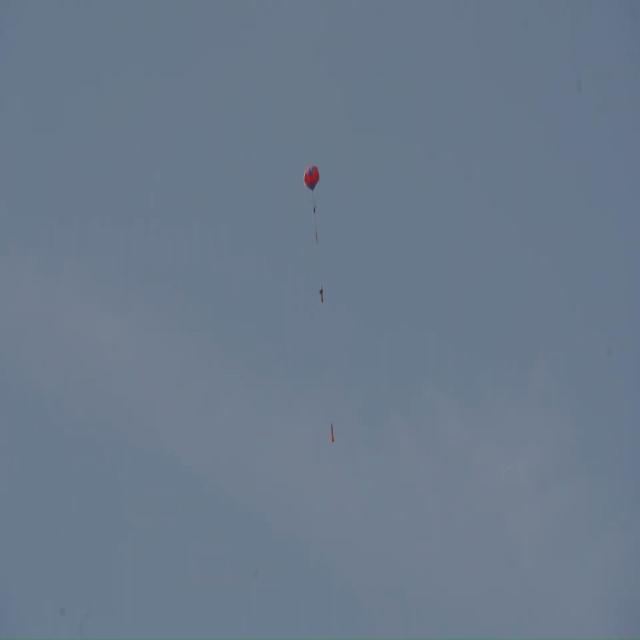Rocket: (331, 423, 335, 443)
